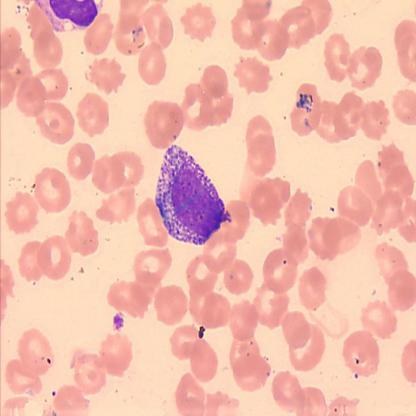Myelocyte: (154, 144, 233, 245)
